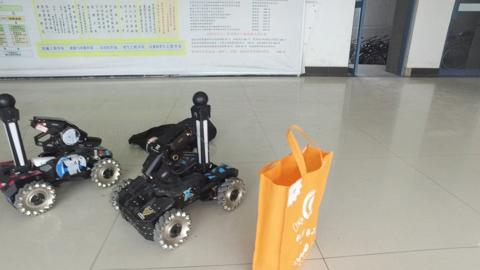bag: (254, 129, 325, 268)
chariot: (113, 92, 247, 246), (1, 90, 122, 216)
